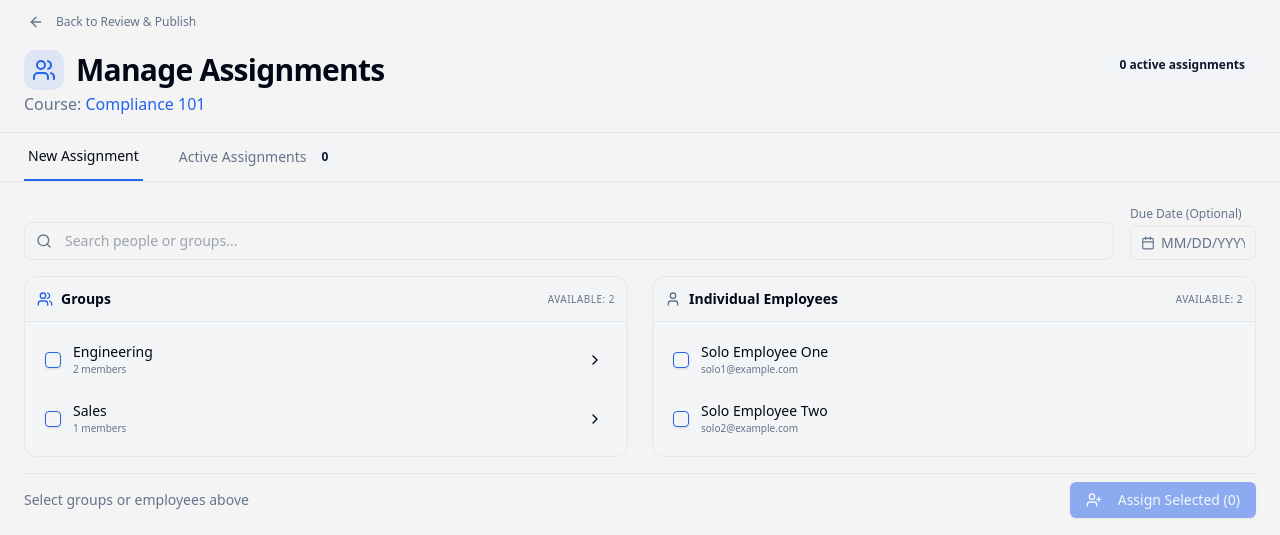
Test: ManagerTrainingAssignments — search, due date, mixed selection › search filters BOTH the groups column and the employees column
The image size is (1280, 535).
Expected: the text "Engineering" is shown, [73,342,153,361]
In the field with placeholder "Search people or groups...": [569, 241] box [24,222,1114,260], type "sales"
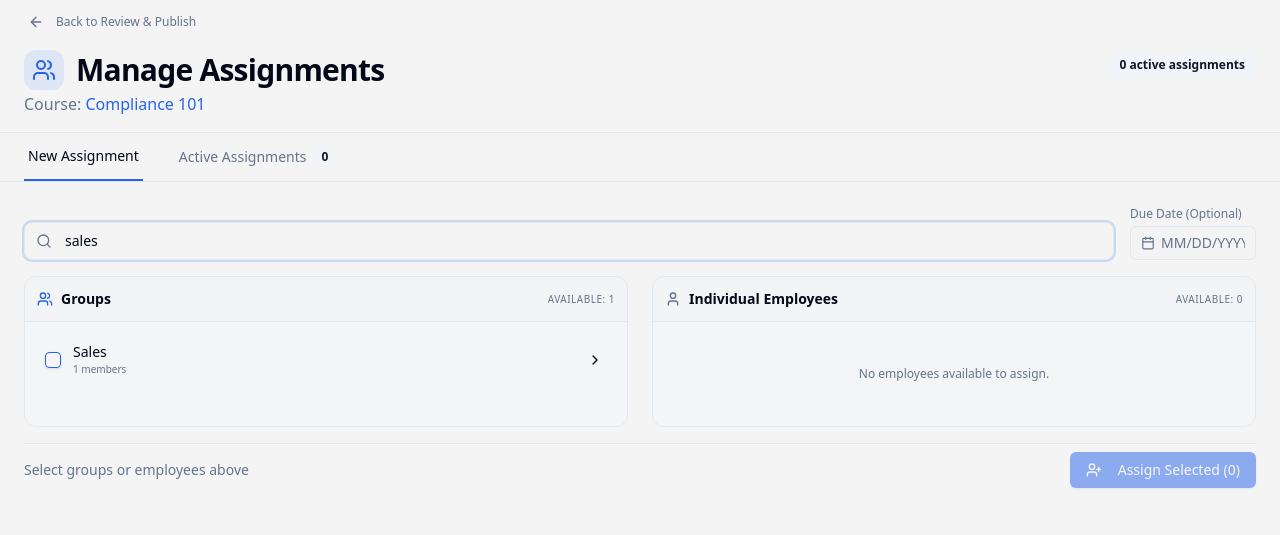
Expected: the text "Engineering" is gone
Expected: the text "Solo Employee One" is gone
Expected: the text "Solo Employee Two" is gone
